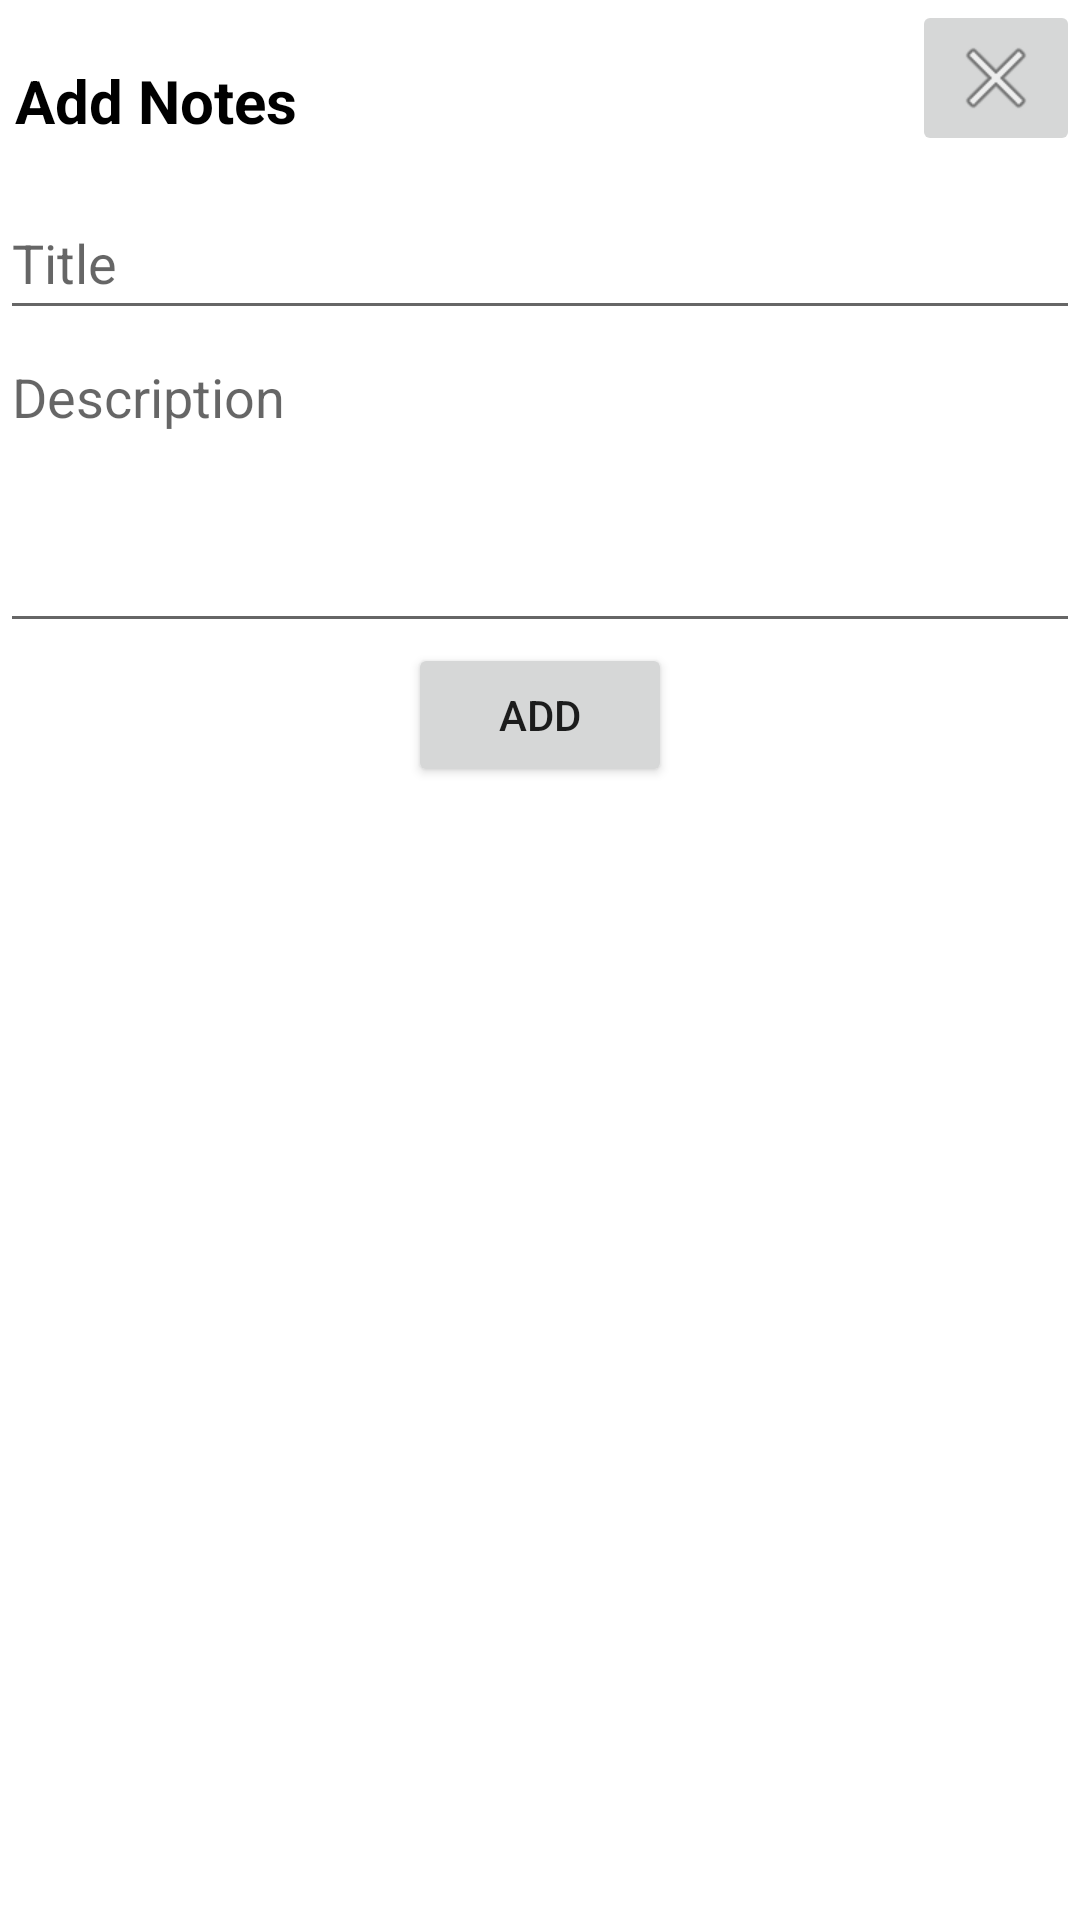

Point at icon controls on the screen. Image size 1080x1920, points as (x=x, y=y).
close clear cancel: (x=996, y=78)
